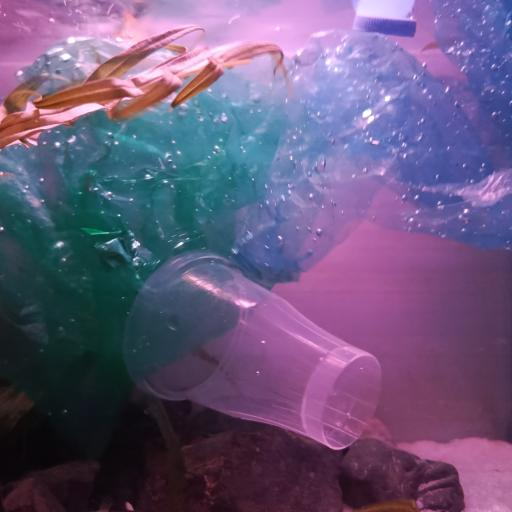bottle_cap: (353, 13, 416, 37)
plastic_bag: (1, 38, 290, 462), (233, 0, 512, 276)
plastic_cup: (124, 251, 381, 451)
